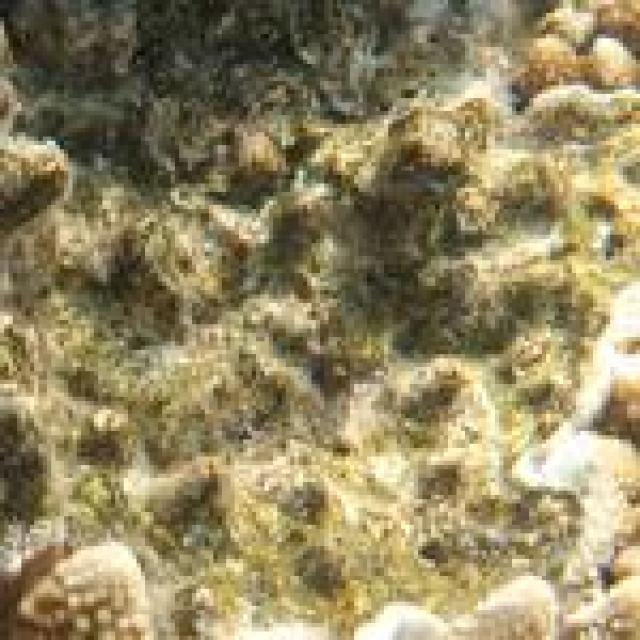Dead Coral: (65, 101, 512, 516)
